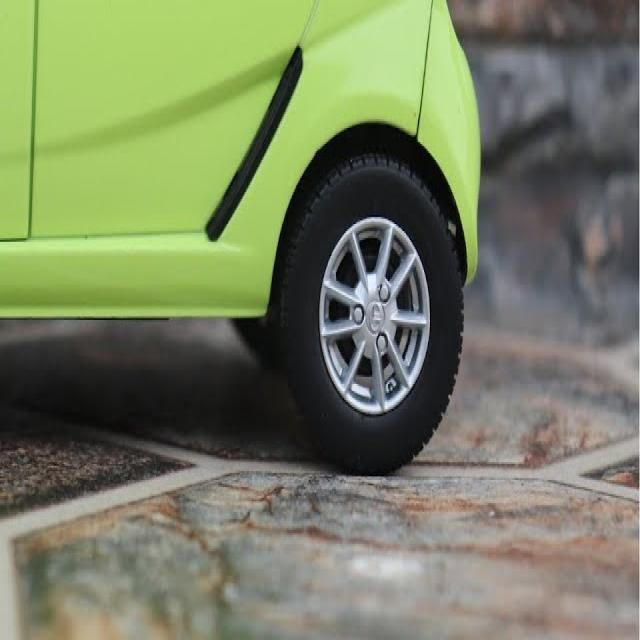car: (0, 0, 495, 480)
